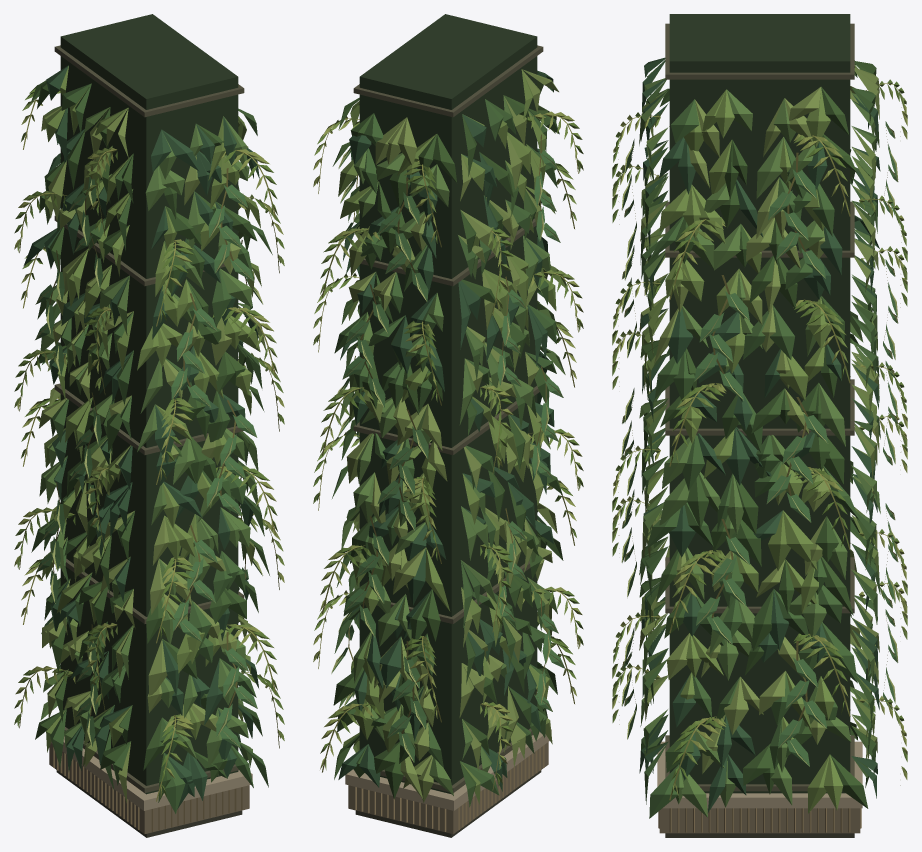
File: planted-column.glb
3 renders of one model, left to right at view 1: azimuth 30°, elevation 25°; view 2: azimuth 150°, elevation 25°; view 3: azimuth 270°, elevation 25°, orthographic. The views are drawn at different scales.
Visible parts, largest first — view 1: PlantedColumn; view 2: PlantedColumn; view 3: PlantedColumn.
Part boxes in pixels (x1,y1,x2,y2): PlantedColumn: [14, 14, 284, 837]; PlantedColumn: [313, 14, 583, 837]; PlantedColumn: [612, 14, 907, 837].
Bounding box in the file's own units: 0.9936 × 3.75 × 1.29.
